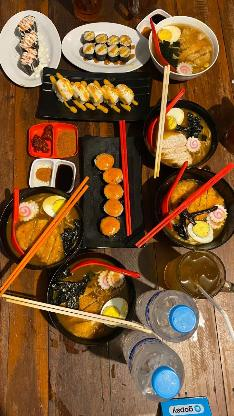Plastic Bottle: (120, 288, 196, 398)
